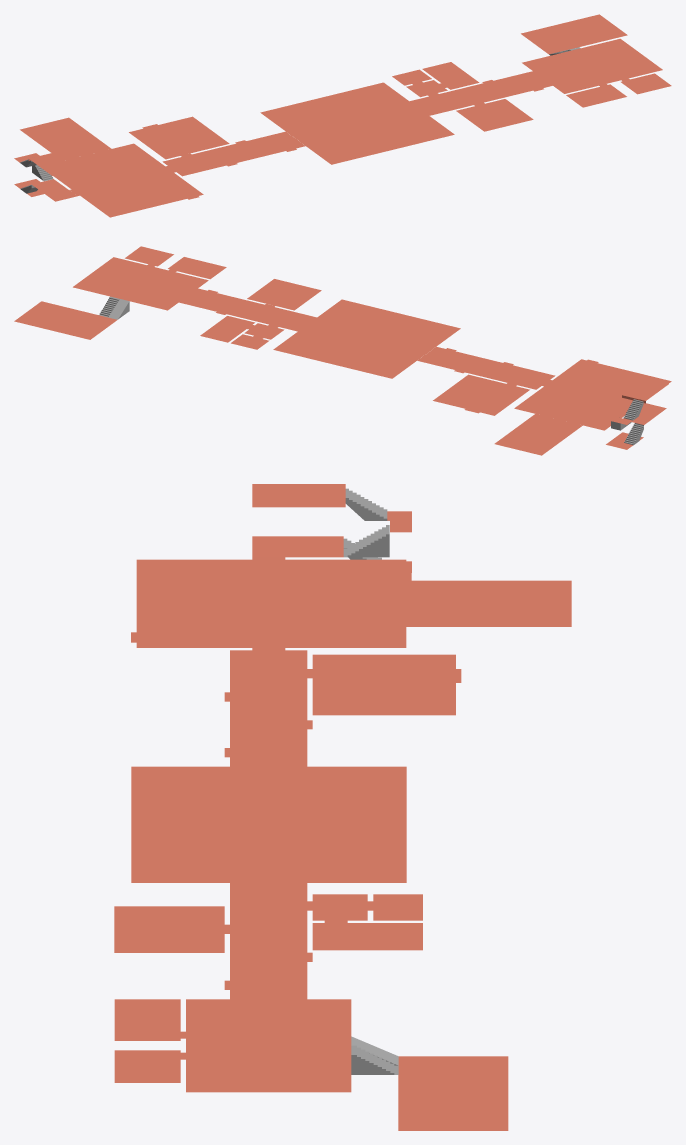
File: PisoPlano.glb
3 views of the same model, one above another, from view 1: azimuth 30°, elevation 25°; view 2: azimuth 150°, elevation 25°; view 3: azimuth 270°, elevation 25° (orthographic). The views are drawn at different scales.
Parts seen in each view (by area): view 1: Recepcion1Piso-col, Lobby1PISO-col, FinalPasilloPiso-col, Pasillo1Piso-col, Pasillo2Piso-col, OficinaDrPiso-col, MorguePiso-col, Piso1hospital-col, RadiografiaPiso-col, PasilloPiso-col, PediatraPiso-col, SeguridadPiso-col (+1 smaller); view 2: Recepcion1Piso-col, Lobby1PISO-col, FinalPasilloPiso-col, Pasillo1Piso-col, Pasillo2Piso-col, OficinaDrPiso-col, MorguePiso-col, Piso1hospital-col, RadiografiaPiso-col, PasilloPiso-col, PediatraPiso-col, SeguridadPiso-col (+1 smaller); view 3: Recepcion1Piso-col, Lobby1PISO-col, FinalPasilloPiso-col, Pasillo1Piso-col, Pasillo2Piso-col, OficinaDrPiso-col, MorguePiso-col, Piso1hospital-col, RadiografiaPiso-col, PediatraPiso-col, PasilloPiso-col, SeguridadPiso-col (+3 smaller).
Boxes of the visible parts, x1,y1,x2,y2 form: Recepcion1Piso-col: [260, 82, 454, 164]; Lobby1PISO-col: [54, 143, 203, 217]; FinalPasilloPiso-col: [522, 38, 662, 93]; Pasillo1Piso-col: [162, 131, 305, 176]; Pasillo2Piso-col: [410, 71, 552, 115]; OficinaDrPiso-col: [129, 116, 229, 159]; MorguePiso-col: [521, 14, 627, 54]; Piso1hospital-col: [20, 117, 111, 160]; RadiografiaPiso-col: [392, 62, 479, 97]; PasilloPiso-col: [14, 152, 77, 201]; PediatraPiso-col: [456, 99, 533, 131]; SeguridadPiso-col: [566, 84, 626, 107]; Recepcion1Piso-col: [273, 299, 460, 378]; Lobby1PISO-col: [514, 359, 671, 430]; FinalPasilloPiso-col: [73, 257, 208, 310]; Pasillo1Piso-col: [417, 346, 555, 389]; Pasillo2Piso-col: [179, 288, 316, 331]; OficinaDrPiso-col: [433, 374, 529, 415]; MorguePiso-col: [14, 301, 117, 339]; Piso1hospital-col: [494, 414, 582, 455]; RadiografiaPiso-col: [200, 316, 284, 349]; PasilloPiso-col: [606, 378, 668, 449]; PediatraPiso-col: [247, 279, 321, 310]; SeguridadPiso-col: [168, 257, 226, 279]; Recepcion1Piso-col: [131, 766, 406, 882]; Lobby1PISO-col: [131, 557, 406, 650]; FinalPasilloPiso-col: [180, 999, 351, 1092]; Pasillo1Piso-col: [224, 650, 312, 766]; Pasillo2Piso-col: [224, 883, 312, 999]; OficinaDrPiso-col: [312, 654, 461, 715]; MorguePiso-col: [398, 1056, 508, 1130]; Piso1hospital-col: [406, 580, 571, 626]; RadiografiaPiso-col: [312, 894, 422, 950]; PediatraPiso-col: [114, 906, 224, 952]; PasilloPiso-col: [252, 484, 411, 580]; SeguridadPiso-col: [114, 999, 180, 1040].
Bounding box in the file's own units: 124 × 7.55 × 41.51.
